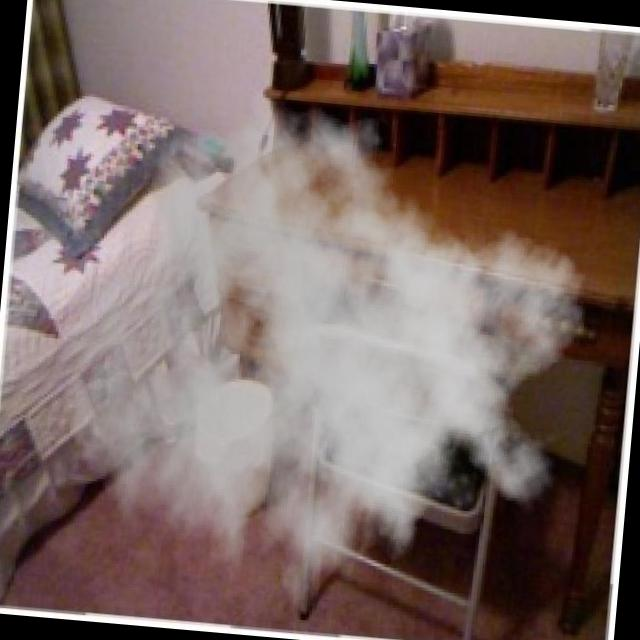Smoke: (43, 59, 606, 640)
